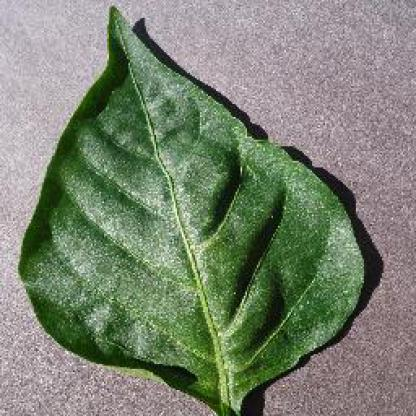good leaf: (52, 28, 365, 393)
